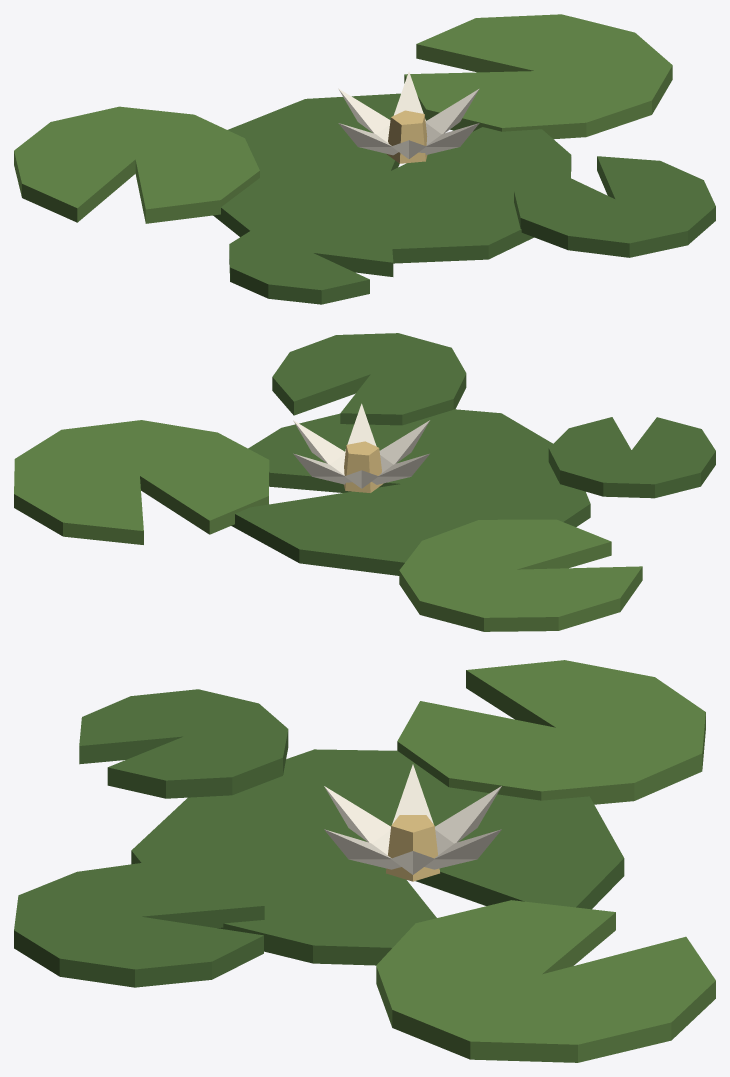
The model's file is Lilypads.fbx.
3 renders of one model, top to bottom at view 1: azimuth 30°, elevation 25°; view 2: azimuth 150°, elevation 25°; view 3: azimuth 270°, elevation 25°, orthographic. The views are drawn at different scales.
Parts seen in each view (by area): view 1: Pads, Pads2, Bloom, Heart; view 2: Pads, Pads2, Bloom, Heart; view 3: Pads, Pads2, Bloom, Heart.
Boxes of the visible parts, box(x1,y1,x2,y2) form: Pads: box(213, 93, 715, 304); Pads2: box(14, 14, 672, 223); Bloom: box(338, 71, 479, 158); Heart: box(387, 110, 427, 163); Pads: box(231, 333, 715, 575); Pads2: box(14, 420, 642, 631); Bloom: box(293, 403, 429, 488); Heart: box(343, 441, 383, 492); Pads: box(14, 689, 624, 987); Pads2: box(376, 660, 715, 1062); Bloom: box(324, 764, 501, 874); Heart: box(386, 815, 439, 881).
Size of the model in its own units: 3.14 by 0.312 by 2.45.
